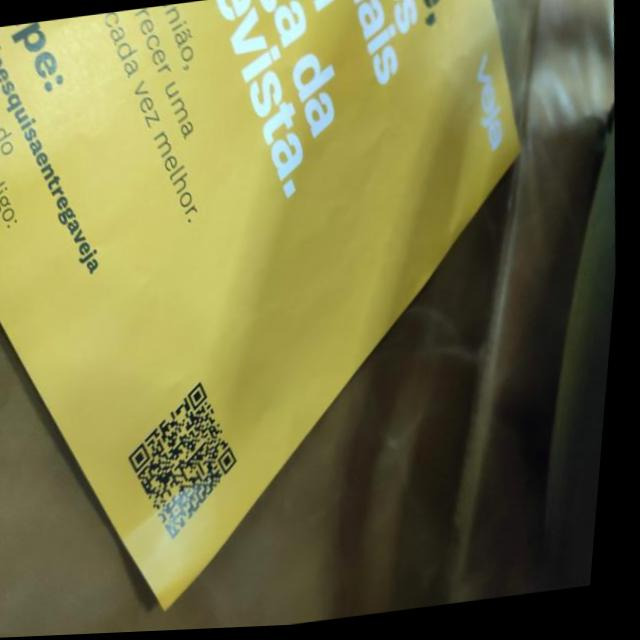qrcode: (125, 379, 256, 547)
